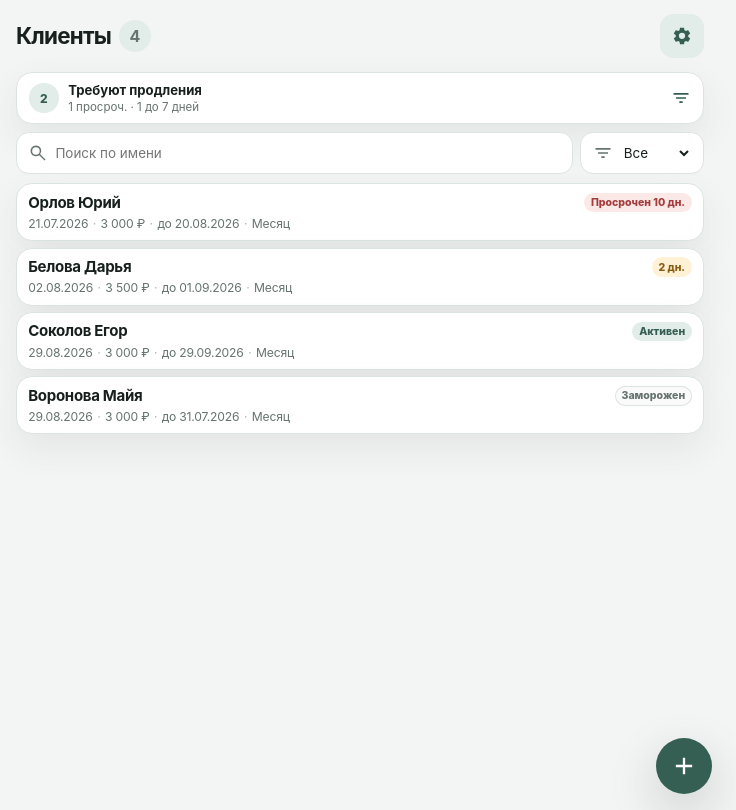
Test: App › сразу показывает срочных сверху в компактных карточках и фильтрует список
The image size is (736, 810).
Expected: the button "2 Требуют продления 1 просроч. · 1 до 7 дней" is shown, [16,72,704,124]
Expected: the button that starts with "Орлов Юрий" shows "Месяц", [16,183,704,241]
Type "орл" into the search field with placeholder "Поиск по имени" at (308, 153), box [55,133,561,173]
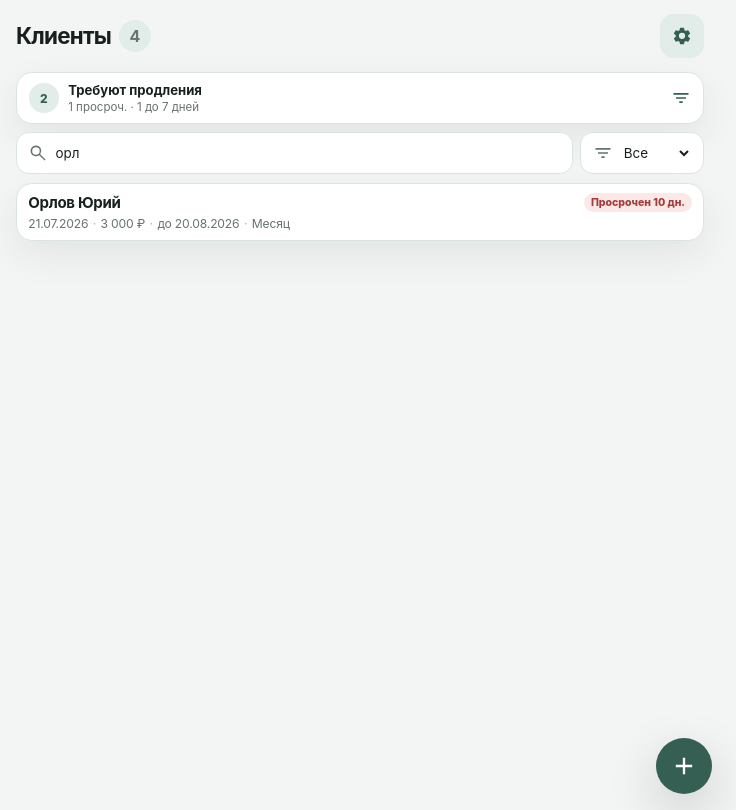
Expected: the button "Орлов Юрий" is shown, [16,183,704,241]
Select "Активные" in the dropdown named "Фильтр клиентов" at (656, 153), box [620,133,692,173]
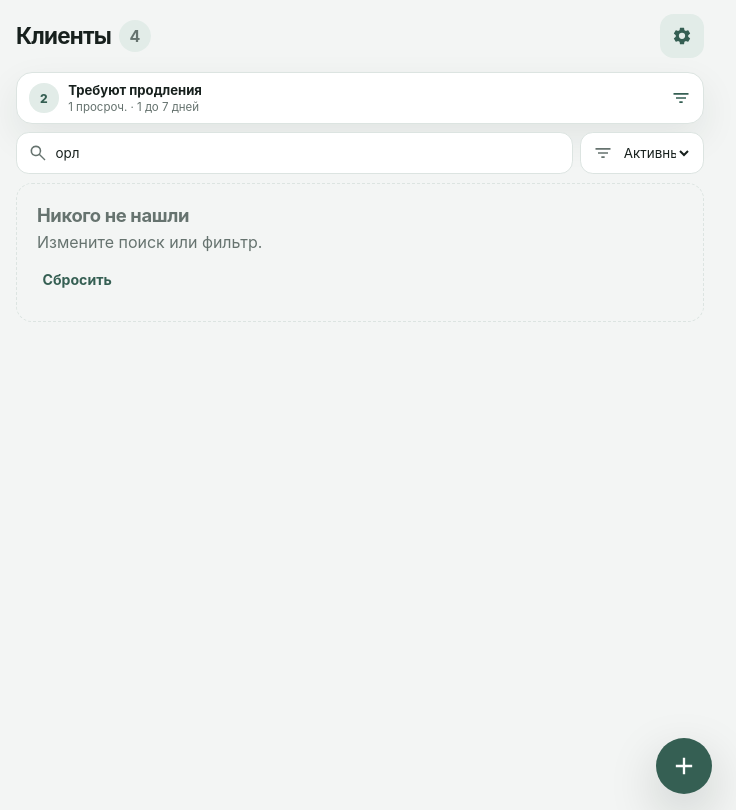
Result: the heading "Никого не нашли" is shown at [37,204,189,226]
